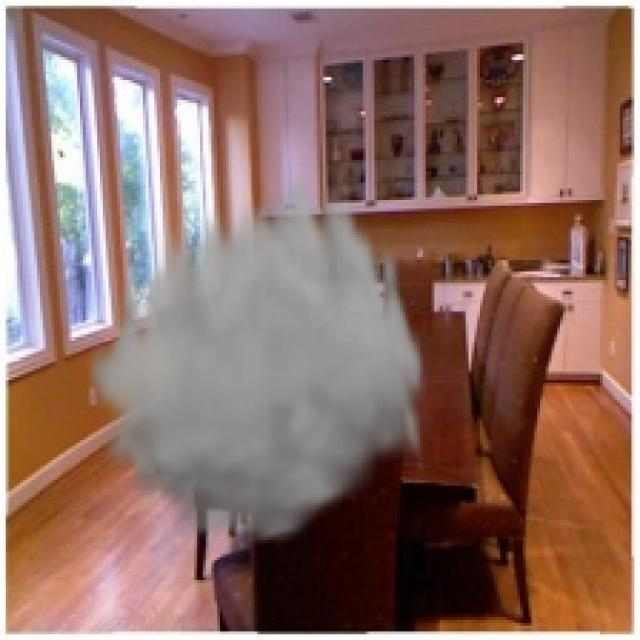smoke: (83, 157, 428, 552)
